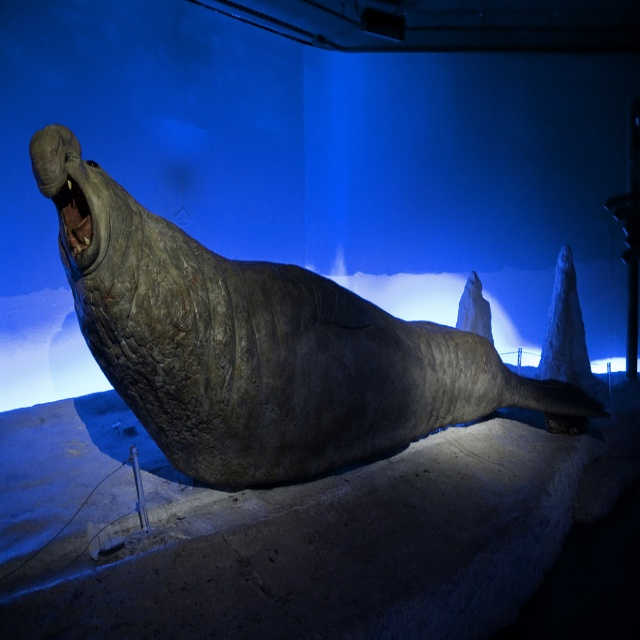Sea lion: (30, 125, 604, 494)
